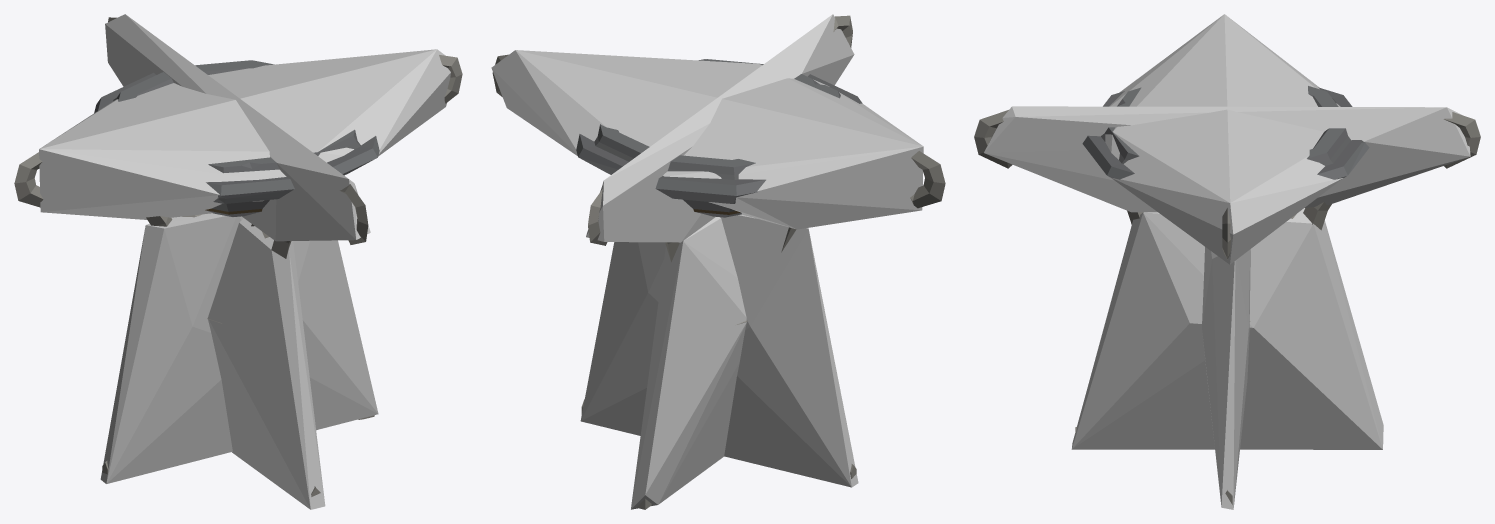
Rendered from SM_Prop_birdBath_01.fbx.
3 views of the same model, side by side, from view 1: azimuth 30°, elevation 25°; view 2: azimuth 150°, elevation 25°; view 3: azimuth 270°, elevation 25° (orthographic). The views are drawn at different scales.
Visible parts, largest first — view 1: SM_Prop_birdBath_01_ConvexHulls, SM_Prop_birdBath_01; view 2: SM_Prop_birdBath_01_ConvexHulls, SM_Prop_birdBath_01; view 3: SM_Prop_birdBath_01_ConvexHulls, SM_Prop_birdBath_01.
Part boxes in pixels (x1,y1,x2,y2): SM_Prop_birdBath_01_ConvexHulls: [39, 14, 450, 509]; SM_Prop_birdBath_01: [14, 17, 462, 496]; SM_Prop_birdBath_01_ConvexHulls: [491, 14, 923, 509]; SM_Prop_birdBath_01: [492, 15, 945, 509]; SM_Prop_birdBath_01_ConvexHulls: [984, 14, 1470, 509]; SM_Prop_birdBath_01: [974, 86, 1480, 504].
Size of the model in its own units: 160 by 163 by 120.
2 materials, 1 textured.
